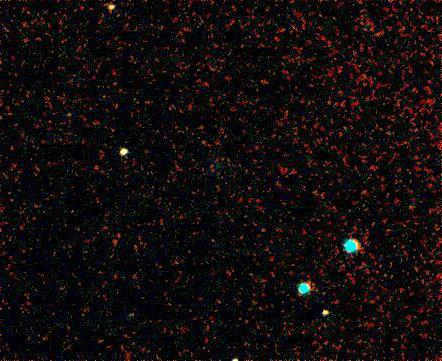star: (109, 136, 139, 166)
